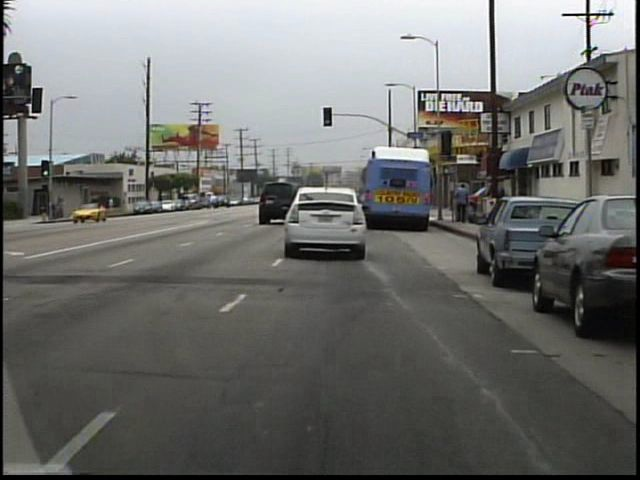person: (450, 182, 470, 226), (106, 192, 120, 217)
